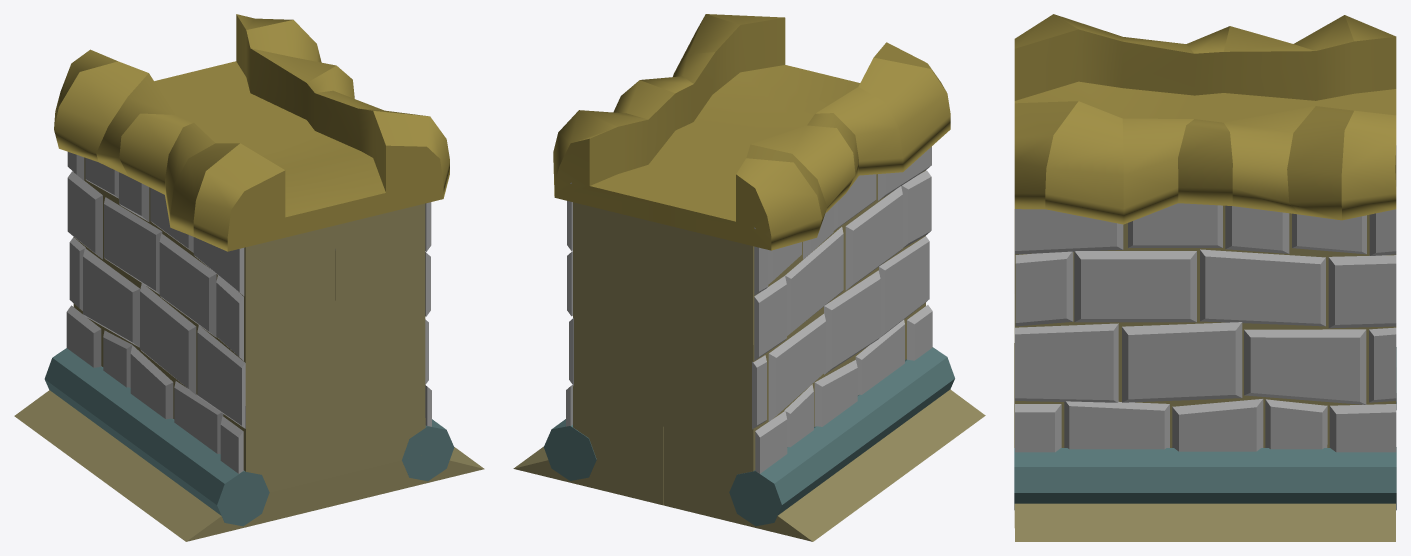
File: Int 7 C.fbx
3 views of the same model, side by side, from view 1: azimuth 30°, elevation 25°; view 2: azimuth 150°, elevation 25°; view 3: azimuth 270°, elevation 25° (orthographic). The views are drawn at different scales.
Visible parts, largest first — view 1: polySurface5; view 2: polySurface5; view 3: polySurface5.
Boxes of the visible parts, <box> form: polySurface5: <box>14,14,484,541</box>; polySurface5: <box>513,14,985,541</box>; polySurface5: <box>1014,14,1396,541</box>.
Size of the model in its own units: 1 by 1.14 by 1.
